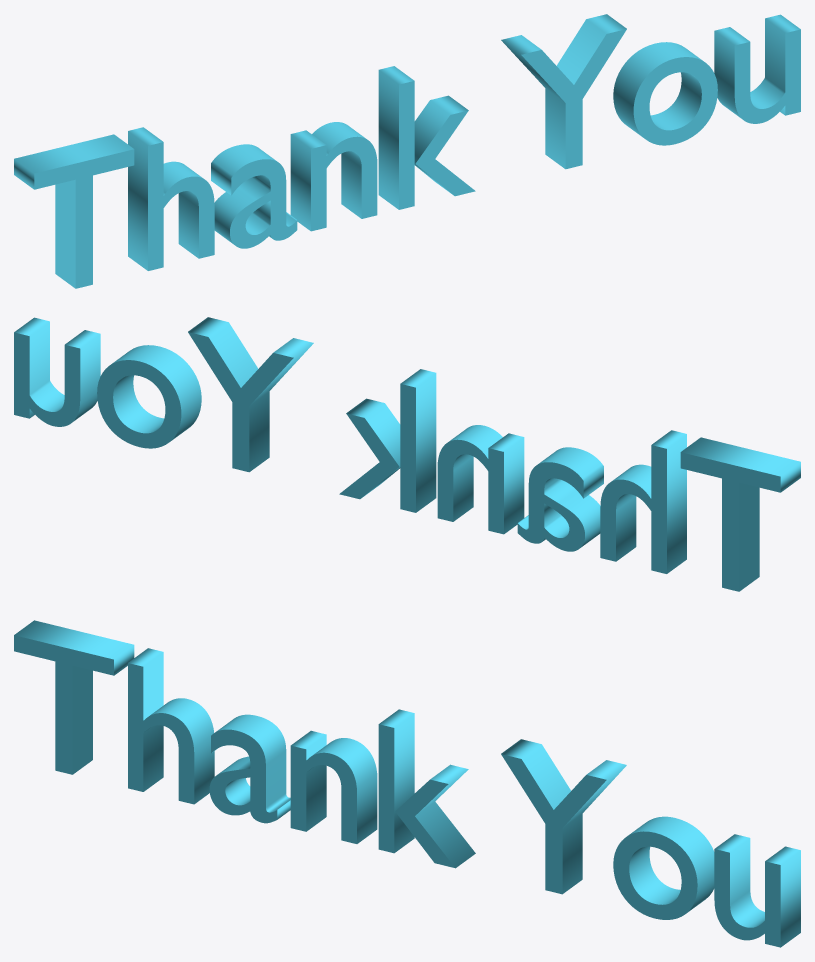
The model's file is console_test_001_result.fbx.
3 views of the same model, one above another, from view 1: azimuth 30°, elevation 25°; view 2: azimuth 150°, elevation 25°; view 3: azimuth 330°, elevation 25° (orthographic).
Visible parts, largest first — view 1: Txt_Test_01.001; view 2: Txt_Test_01.001; view 3: Txt_Test_01.001.
Part boxes in pixels (<box>): Txt_Test_01.001: <box>14,14,800,288</box>; Txt_Test_01.001: <box>14,317,800,591</box>; Txt_Test_01.001: <box>14,620,800,947</box>.
Size of the model in its own units: 1.33 by 0.2103 by 0.0609.
